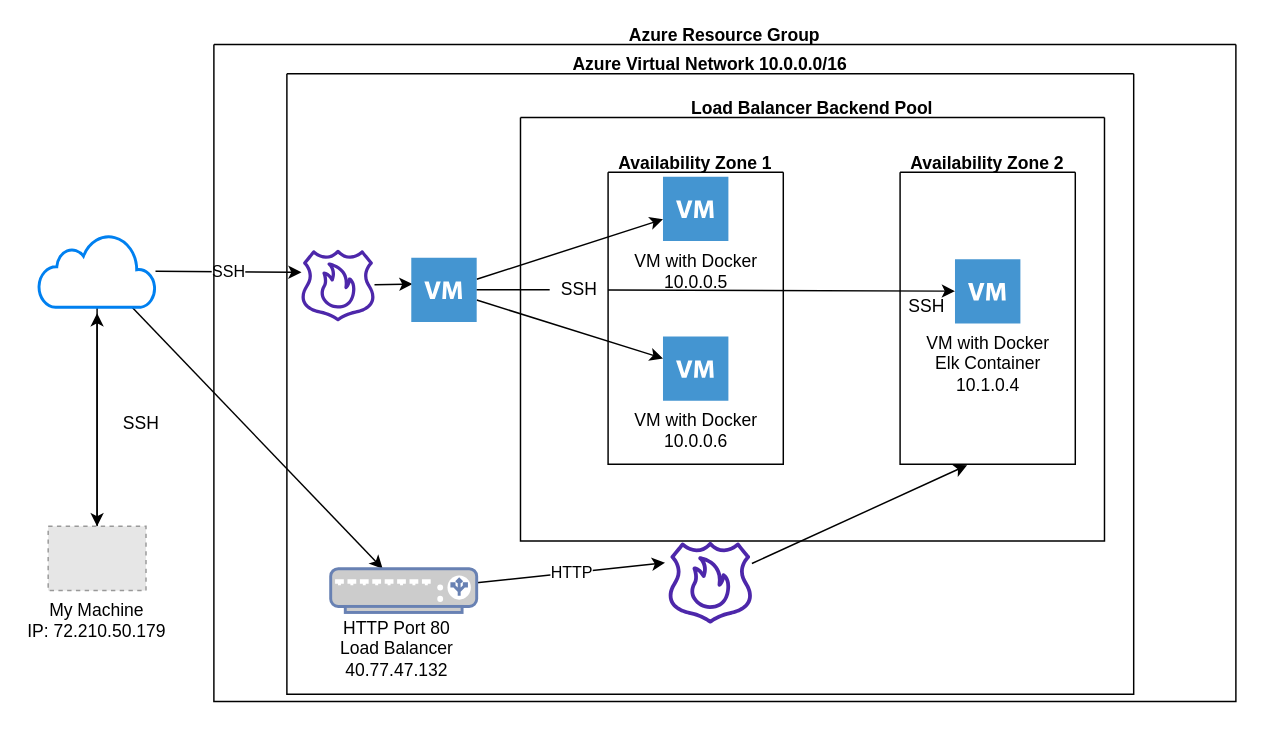
Some shapes in this 1261 by 743 pixel diagram are drawn without their labels. Grey dashed boxes stand in for pictures. The shapes that lost their labels are listed below. From the top down, each one's centre as x and y in pixels, then its label:
At [96,270]: "Internet".
At [337,284]: "Security Group SSH to jump box Allow inbound traffic".
At [443,289]: "Jump Box 168.61.212.247 10.0.0.4".
At [709,581]: "ELK Group Security Group Allow SSH Allow traffic on port 5601".
